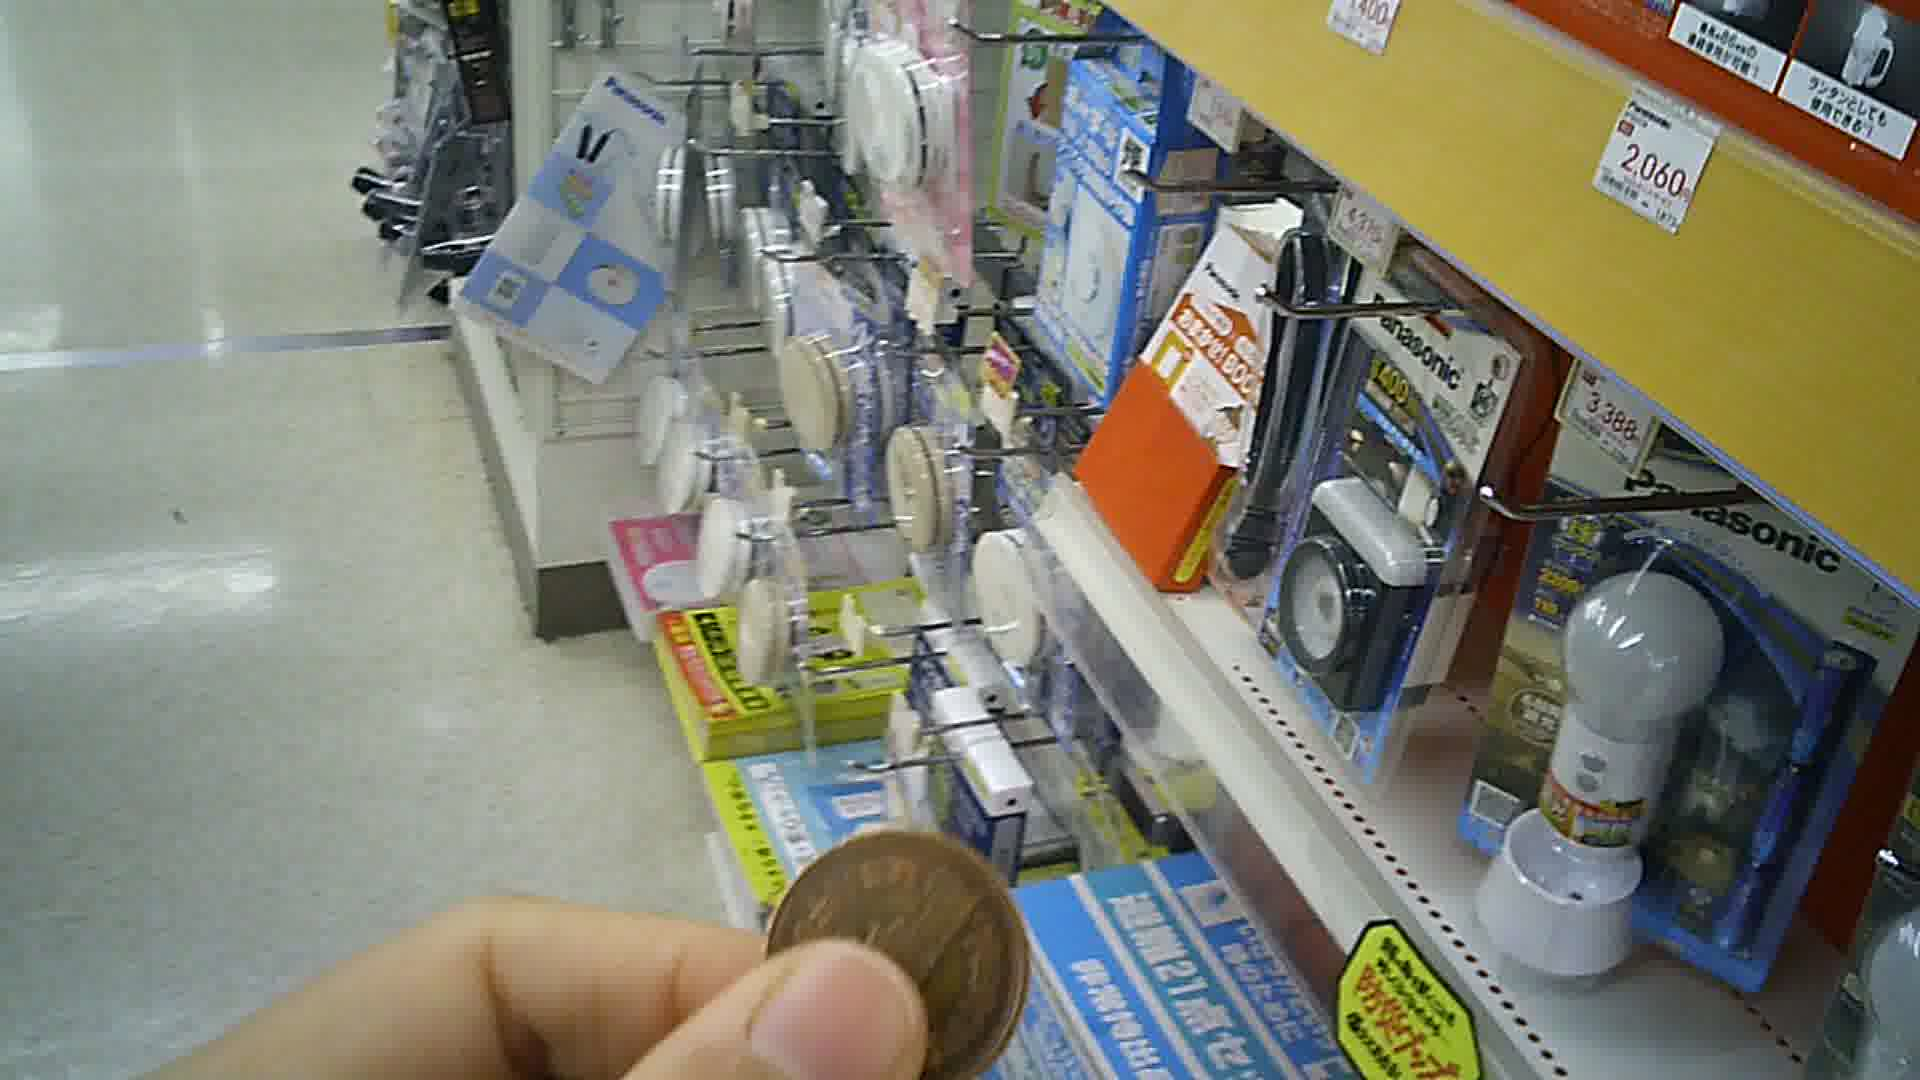10 Yen: (764, 824, 1035, 1079)
